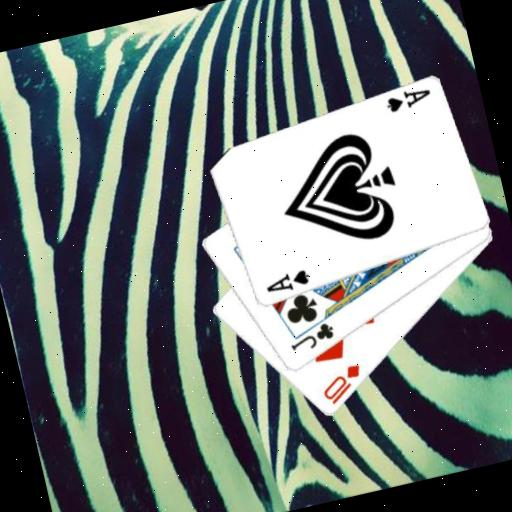10D: (315, 361, 369, 409)
AS: (380, 82, 434, 116), (260, 267, 313, 299)
JC: (283, 319, 338, 357)
